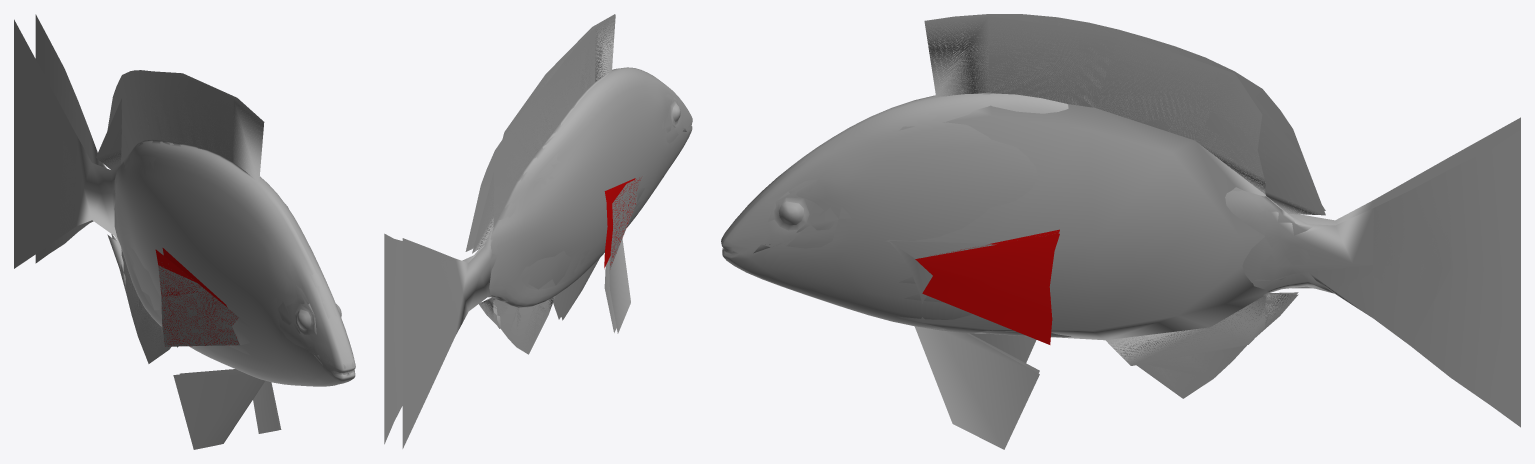
File: Sparidae_A.fbx
3 views of the same model, side by side, from view 1: azimuth 30°, elevation 25°; view 2: azimuth 150°, elevation 25°; view 3: azimuth 270°, elevation 25° (orthographic). The views are drawn at different scales.
Visible parts, largest first — view 1: Sparidae_A_L, Sparidae_A_XS, Sparidae_A_S, Sparidae_A_M; view 2: Sparidae_A_L, Sparidae_A_XS, Sparidae_A_M, Sparidae_A_S; view 3: Sparidae_A_XS, Sparidae_A_L, Sparidae_A_M, Sparidae_A_S.
Boxes of the visible parts, bbox=[...] form: Sparidae_A_L: bbox=[35, 14, 355, 449]; Sparidae_A_XS: bbox=[14, 19, 348, 443]; Sparidae_A_S: bbox=[35, 16, 322, 433]; Sparidae_A_M: bbox=[35, 15, 353, 383]; Sparidae_A_L: bbox=[384, 15, 692, 443]; Sparidae_A_XS: bbox=[402, 14, 678, 448]; Sparidae_A_M: bbox=[384, 20, 691, 437]; Sparidae_A_S: bbox=[384, 14, 686, 443]; Sparidae_A_XS: bbox=[723, 16, 1520, 449]; Sparidae_A_L: bbox=[721, 14, 1520, 426]; Sparidae_A_M: bbox=[721, 14, 1520, 411]; Sparidae_A_S: bbox=[753, 14, 1520, 427].
Size of the model in its own units: 0.0542 by 0.1864 by 0.3257.
